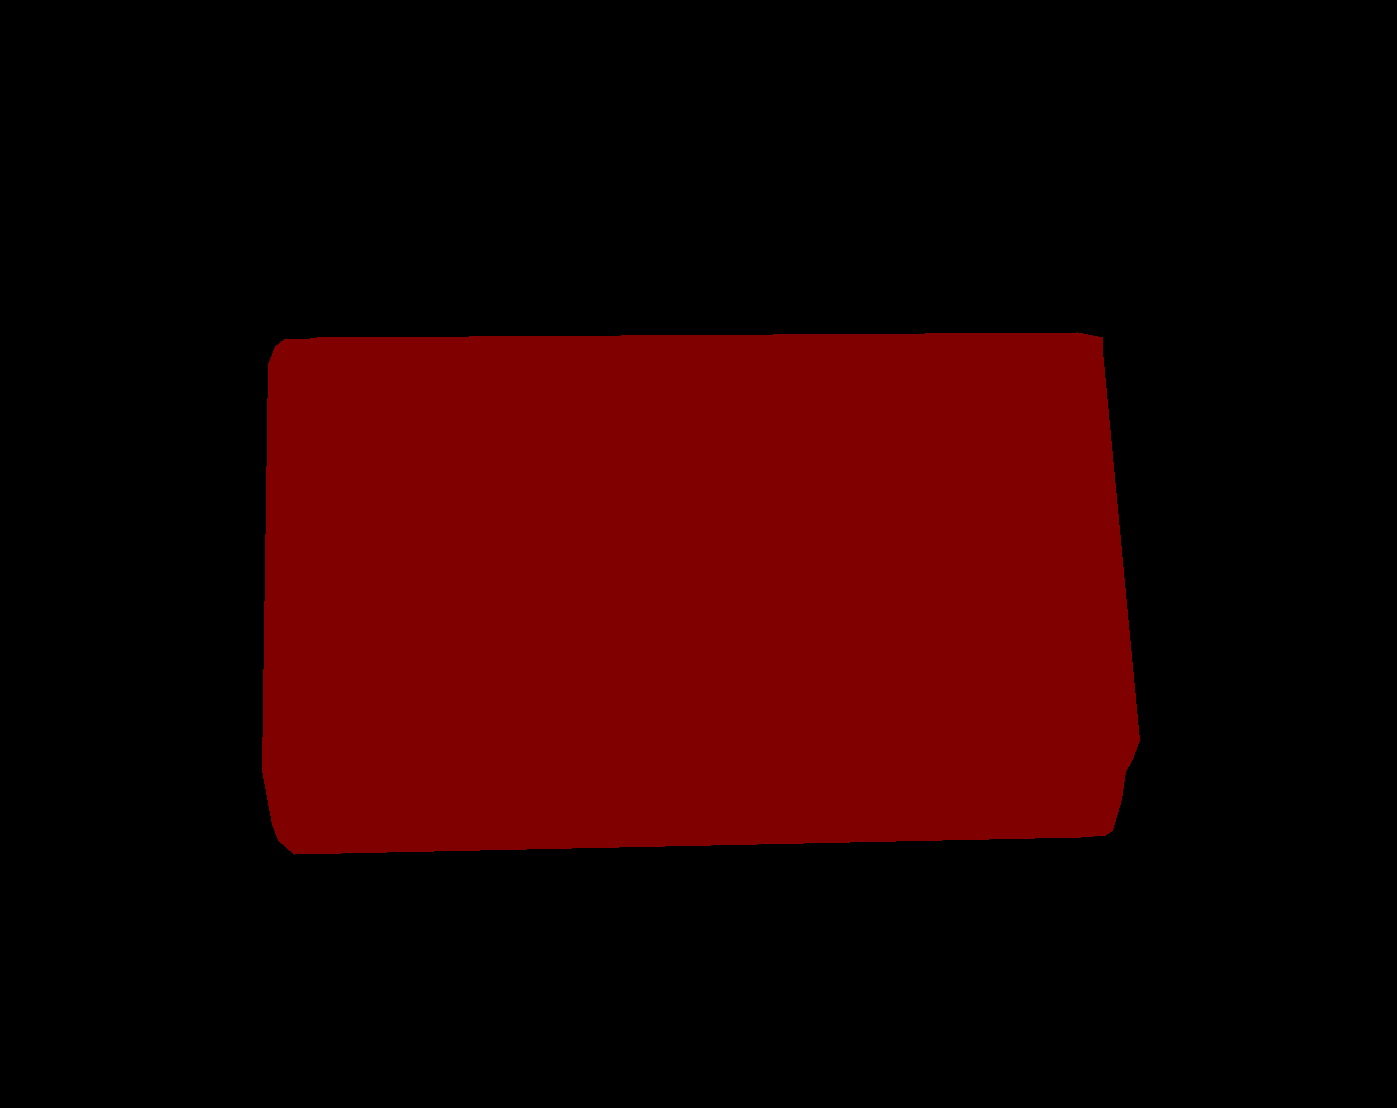sign: (262, 332, 1138, 854)
